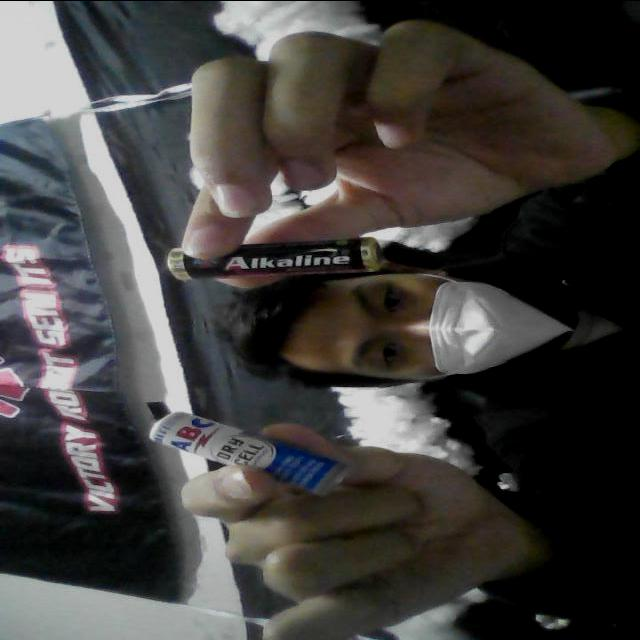AA: (130, 406, 368, 501)
AAA: (156, 221, 394, 286)
